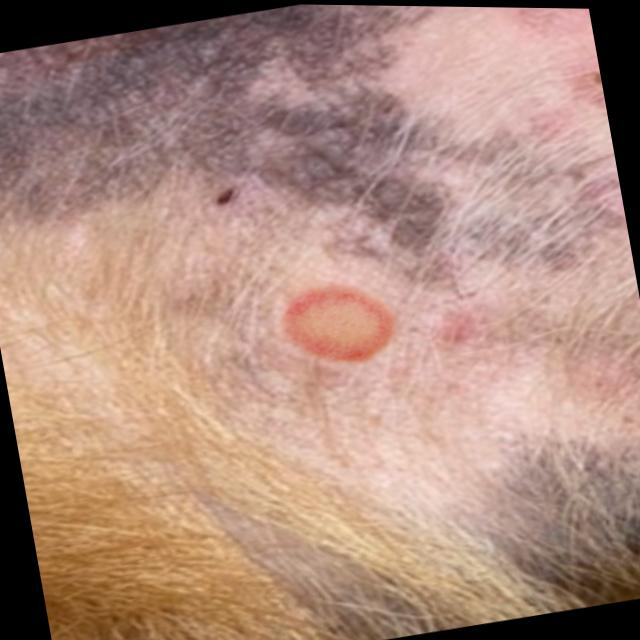ringworm: (247, 257, 422, 397)
